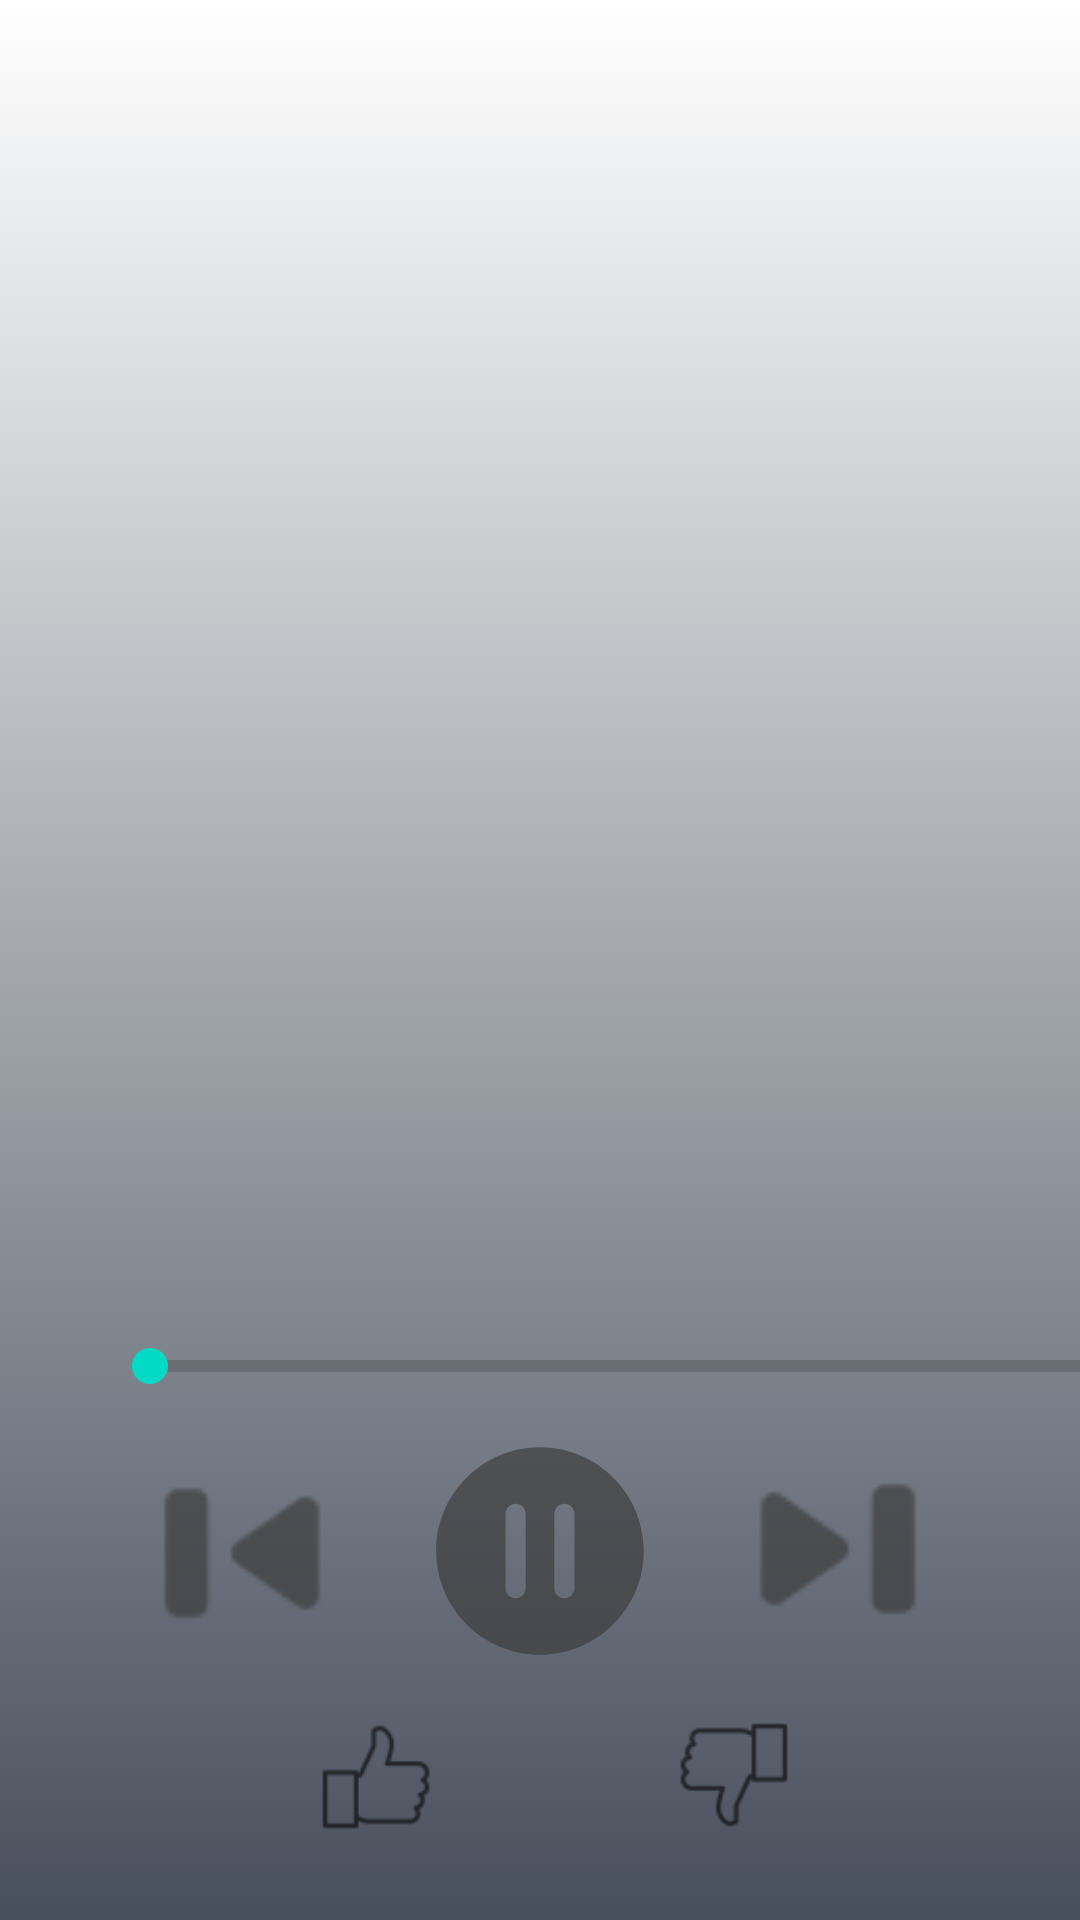

Point at icon controls on the screen. Image size 1080px×1920px, points as point (x, y).
pause: point (540, 1528)
